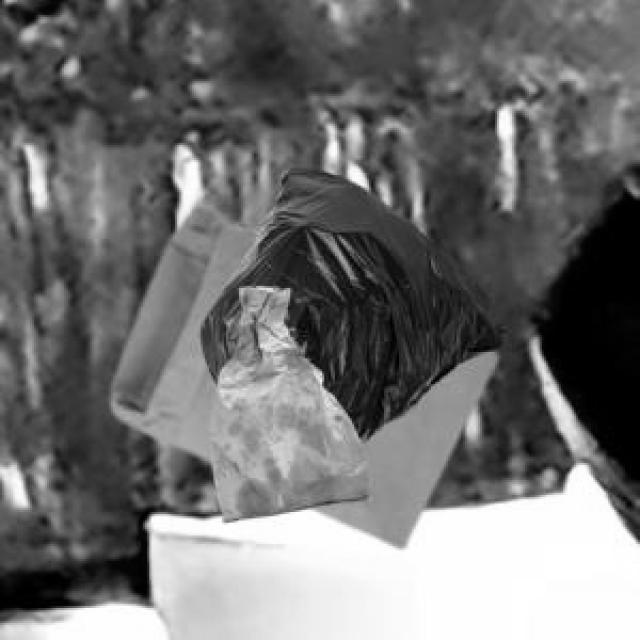miscellaneous trash: (198, 162, 501, 440)
paper: (109, 203, 493, 544), (207, 284, 367, 518)
